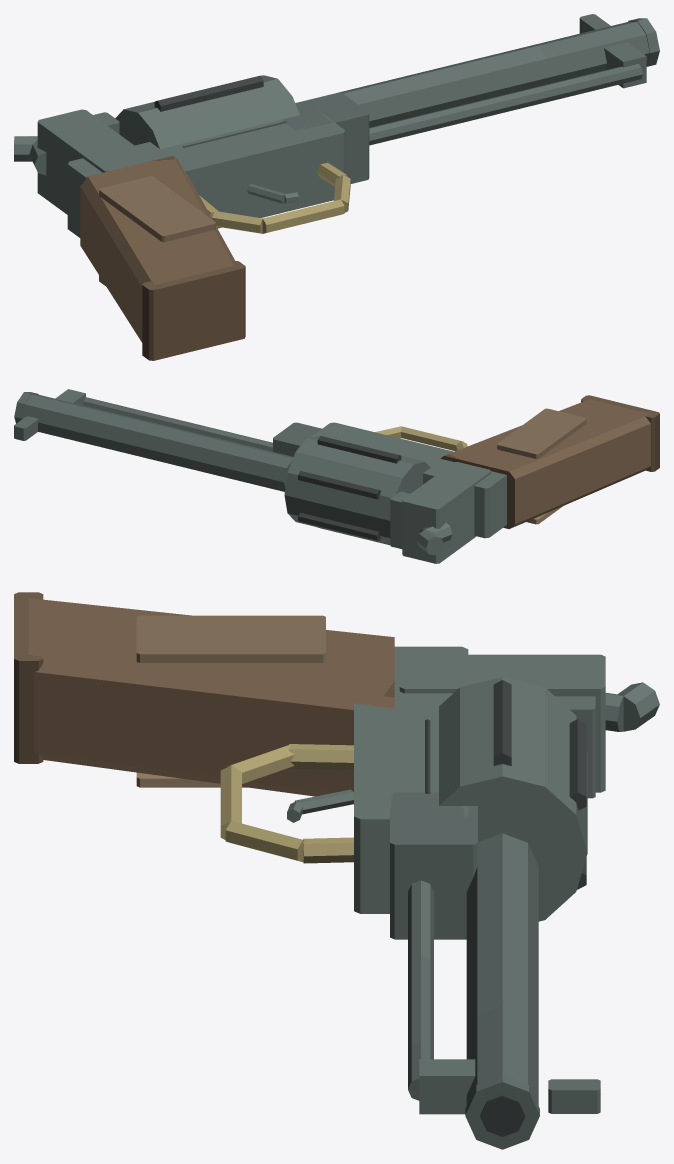
Rendered from weapon-colt-1851.glb.
3 renders of one model, top to bottom at view 1: azimuth 30°, elevation 25°; view 2: azimuth 150°, elevation 25°; view 3: azimuth 270°, elevation 25°, orthographic. The views are drawn at different scales.
Parts seen in each view (by area): view 1: weapon-colt-1851/lower-frame, weapon-colt-1851/eight-sided-wood-grip, weapon-colt-1851/barrel, weapon-colt-1851/eight-sided-wood-grip-heel, weapon-colt-1851/fluted-cylinder, weapon-colt-1851/frame-rear, weapon-colt-1851/under-barrel-rod, weapon-colt-1851/grip-plaque-left, weapon-colt-1851/open-frame-barrel-lug, weapon-colt-1851/cylinder-long-flute-3, weapon-colt-1851/hollow-trigger-guard-4, weapon-colt-1851/rod-front-lug (+2 smaller); view 2: weapon-colt-1851/eight-sided-wood-grip, weapon-colt-1851/barrel, weapon-colt-1851/fluted-cylinder, weapon-colt-1851/frame-rear, weapon-colt-1851/lower-frame, weapon-colt-1851/grip-plaque-left, weapon-colt-1851/under-barrel-rod, weapon-colt-1851/open-frame-barrel-lug, weapon-colt-1851/eight-sided-wood-grip-heel, weapon-colt-1851/cylinder-long-flute-2, weapon-colt-1851/cylinder-long-flute-1, weapon-colt-1851/cylinder-long-flute-3 (+7 smaller); view 3: weapon-colt-1851/eight-sided-wood-grip, weapon-colt-1851/fluted-cylinder, weapon-colt-1851/barrel, weapon-colt-1851/lower-frame, weapon-colt-1851/open-frame-barrel-lug, weapon-colt-1851/grip-plaque-left, weapon-colt-1851/frame-rear, weapon-colt-1851/under-barrel-rod, weapon-colt-1851/eight-sided-wood-grip-heel, weapon-colt-1851/rod-front-lug, weapon-colt-1851/barrel-end-rim, weapon-colt-1851/front-sight (+12 smaller).
Part boxes in pixels (bbox=[...]): weapon-colt-1851/lower-frame: bbox=[67, 105, 345, 237]; weapon-colt-1851/eight-sided-wood-grip: bbox=[80, 156, 234, 342]; weapon-colt-1851/barrel: bbox=[339, 21, 649, 127]; weapon-colt-1851/eight-sided-wood-grip-heel: bbox=[142, 260, 245, 360]; weapon-colt-1851/fluted-cylinder: bbox=[115, 75, 299, 148]; weapon-colt-1851/frame-rear: bbox=[37, 109, 153, 214]; weapon-colt-1851/under-barrel-rod: bbox=[369, 64, 642, 145]; weapon-colt-1851/grip-plaque-left: bbox=[99, 176, 215, 242]; weapon-colt-1851/open-frame-barrel-lug: bbox=[281, 92, 369, 183]; weapon-colt-1851/cylinder-long-flute-3: bbox=[154, 75, 263, 111]; weapon-colt-1851/hollow-trigger-guard-4: bbox=[262, 199, 344, 233]; weapon-colt-1851/rod-front-lug: bbox=[604, 42, 646, 88]; weapon-colt-1851/eight-sided-wood-grip: bbox=[440, 399, 650, 528]; weapon-colt-1851/barrel: bbox=[22, 394, 293, 491]; weapon-colt-1851/fluted-cylinder: bbox=[284, 435, 430, 544]; weapon-colt-1851/frame-rear: bbox=[402, 462, 490, 563]; weapon-colt-1851/lower-frame: bbox=[311, 422, 506, 538]; weapon-colt-1851/grip-plaque-left: bbox=[497, 408, 586, 458]; weapon-colt-1851/under-barrel-rod: bbox=[82, 397, 272, 451]; weapon-colt-1851/open-frame-barrel-lug: bbox=[273, 422, 321, 456]; weapon-colt-1851/eight-sided-wood-grip-heel: bbox=[581, 395, 659, 471]; weapon-colt-1851/cylinder-long-flute-2: bbox=[298, 471, 381, 499]; weapon-colt-1851/cylinder-long-flute-1: bbox=[298, 512, 381, 540]; weapon-colt-1851/cylinder-long-flute-3: bbox=[317, 436, 401, 463]; weapon-colt-1851/eight-sided-wood-grip: bbox=[28, 598, 394, 796]; weapon-colt-1851/fluted-cylinder: bbox=[439, 677, 587, 921]; weapon-colt-1851/barrel: bbox=[466, 833, 538, 1105]; weapon-colt-1851/lower-frame: bbox=[354, 646, 468, 913]; weapon-colt-1851/open-frame-barrel-lug: bbox=[390, 792, 477, 939]; weapon-colt-1851/grip-plaque-left: bbox=[136, 615, 325, 662]; weapon-colt-1851/frame-rear: bbox=[399, 654, 605, 792]; weapon-colt-1851/under-barrel-rod: bbox=[408, 880, 433, 1100]; weapon-colt-1851/eight-sided-wood-grip-heel: bbox=[14, 592, 43, 763]; weapon-colt-1851/rod-front-lug: bbox=[419, 1059, 475, 1114]; weapon-colt-1851/barrel-end-rim: bbox=[465, 1075, 539, 1149]; weapon-colt-1851/front-sight: bbox=[548, 1079, 600, 1113].
Size of the model in its own units: 0.3424 by 0.0594 by 0.1976.
Materials: 5 (5 with a texture image).
